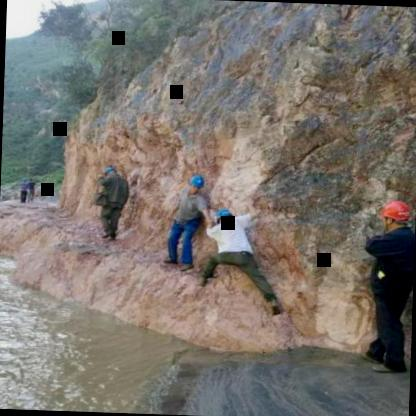helmet: (378, 198, 412, 228), (211, 206, 238, 228), (186, 172, 206, 196), (99, 162, 119, 178)
